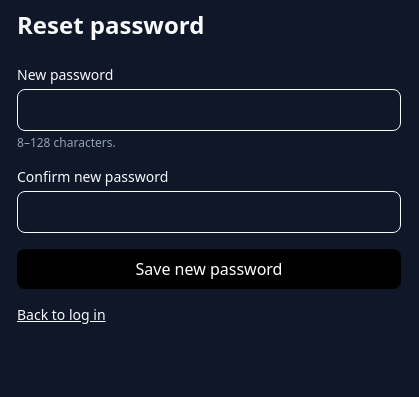
ResetPasswordPage › invalid/expired token returns 400 with helpful copy
Type "brandnew12345" into the password field labelled "New password".
click(209, 110); type("brandnew12345")  # box [17,89,401,131]
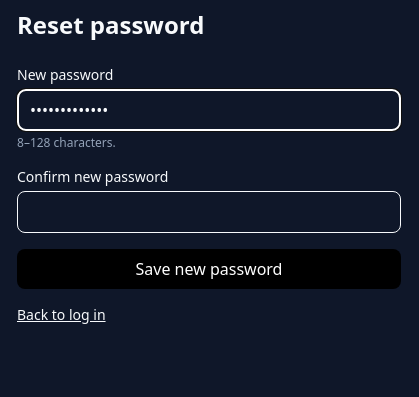
Type "brandnew12345" into the password field labelled "Confirm new password".
click(209, 212); type("brandnew12345")  # box [17,191,401,233]
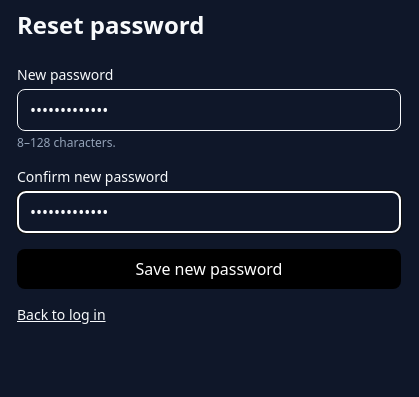
Click the button "Save new password".
click(209, 269)  # box [17,249,401,289]
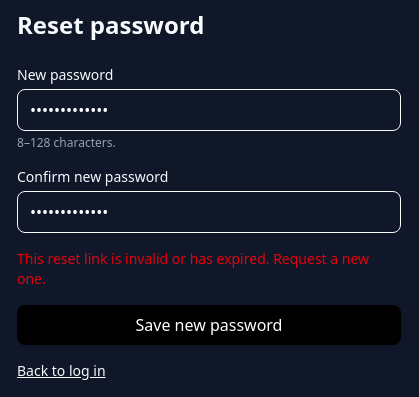
Now the message shows "reset link is invalid or has expired", box [17,249,369,288]
